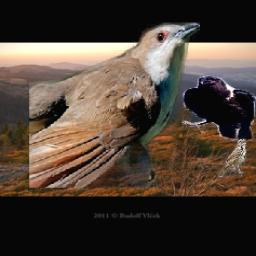Crow: (183, 76, 256, 142)
Cuckoo: (29, 22, 200, 188)
Sparrow: (218, 139, 247, 178)
